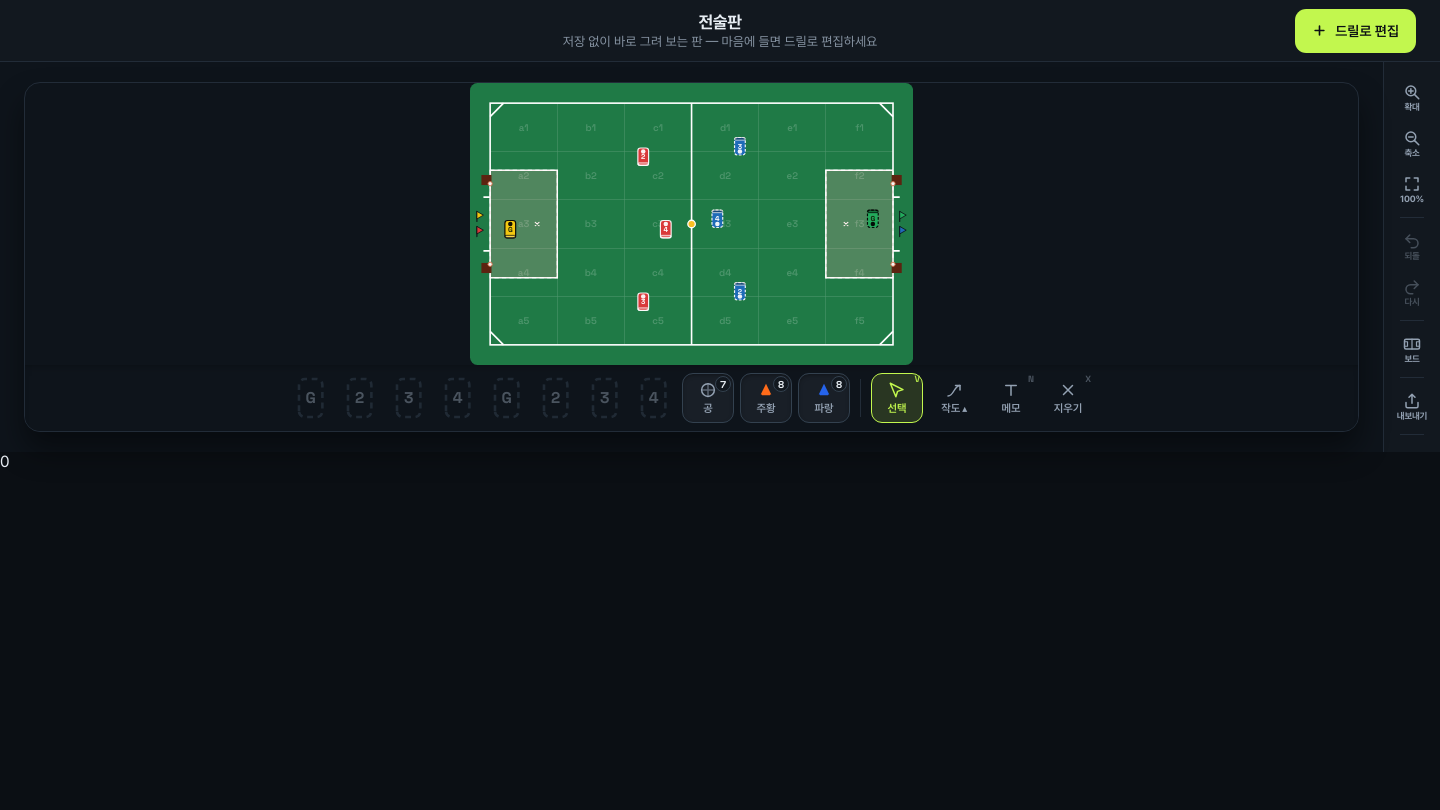
Test: 코트 비우기 — 덩어리가 크므로 확인을 받고, 되돌릴 수 있다 › 비우면 코트 전환 잠금이 풀린다
The width and height of the screenshot is (1440, 810).
Expected: the navigation bar named "도구" is shown, 25,365 -> 1358,431
What coordinates should you click on to do the following:
click the button with aria-label "보드 설정"
I would click on:
 (1412, 349)
Its box is 1390,327 -> 1434,371.
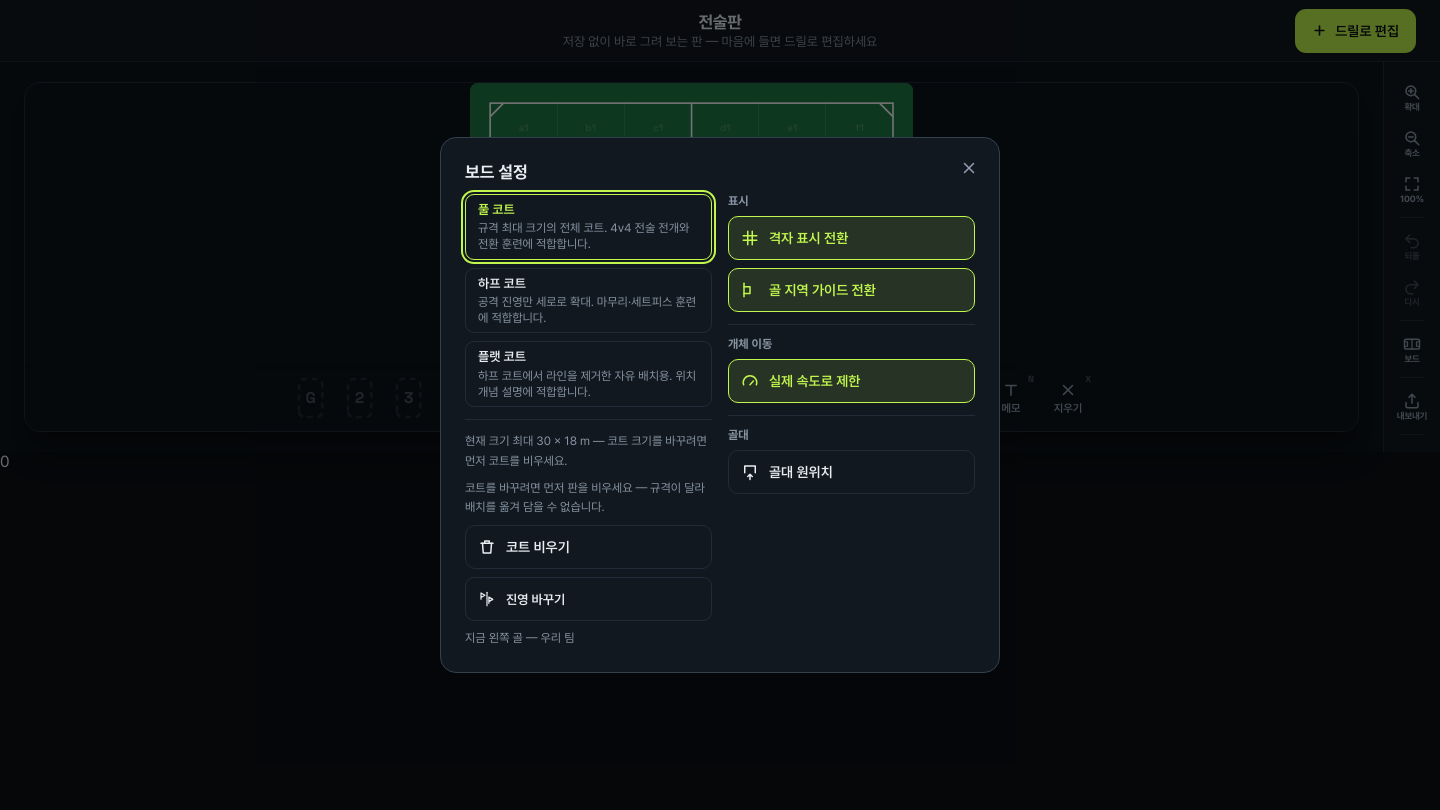
What coordinates should you click on to do the following:
click the button "코트 비우기"
I would click on:
 (588, 547)
Its box is 465,525 -> 712,569.
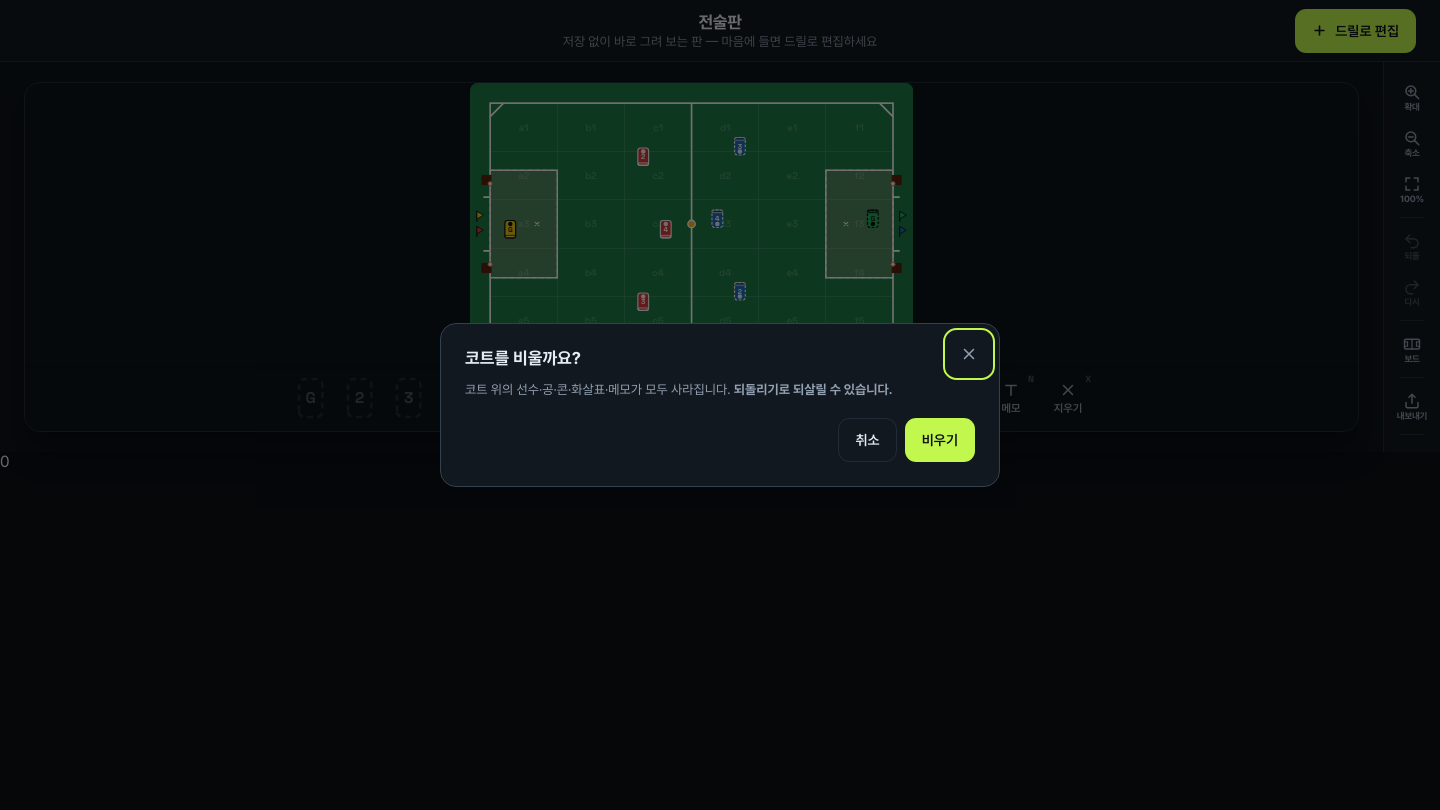
What coordinates should you click on to do the following:
click the button "비우기"
I would click on:
 (940, 440)
Its box is 905,418 -> 975,462.
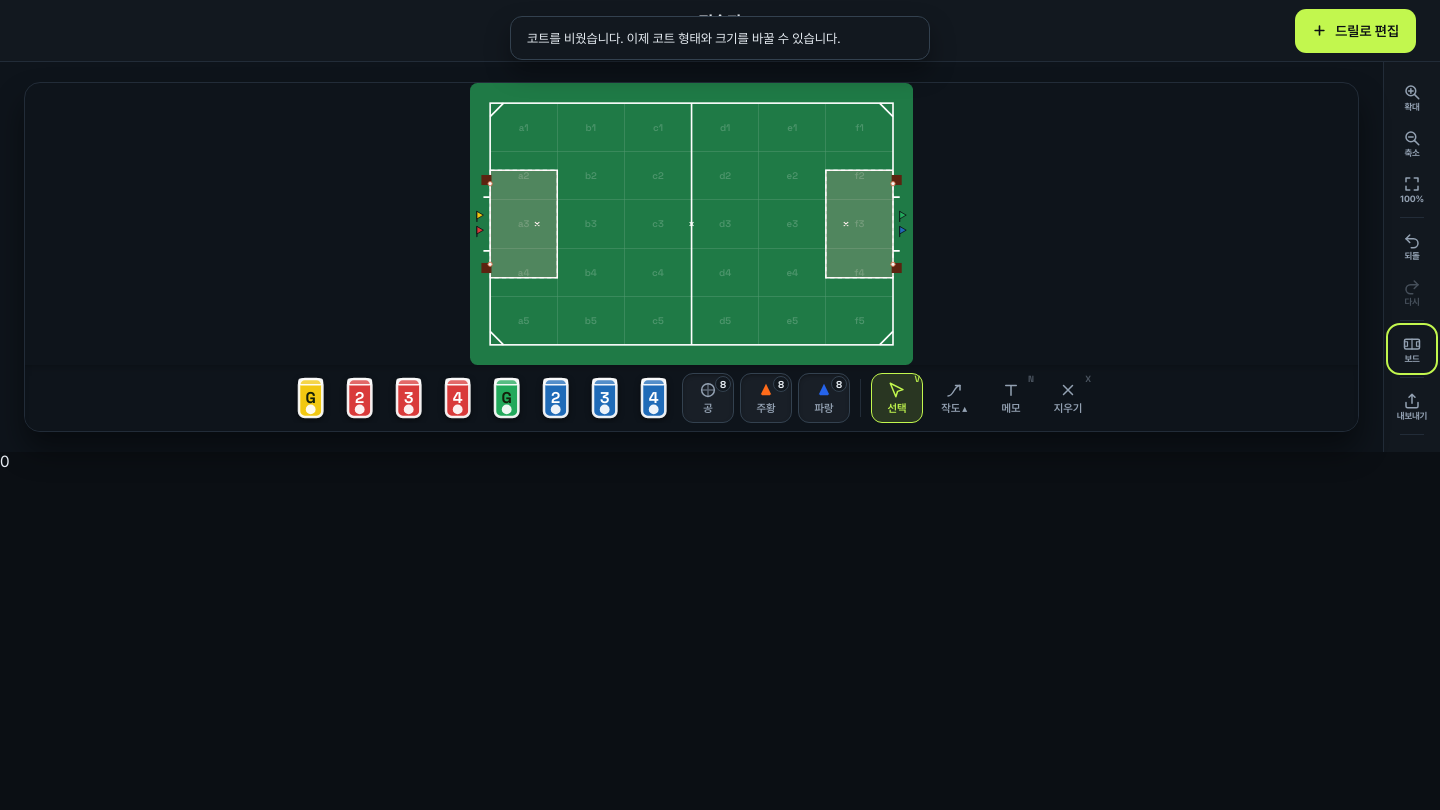
What coordinates should you click on to do the following:
click the button with aria-label "보드 설정"
I would click on:
 (1412, 349)
Its box is 1390,327 -> 1434,371.
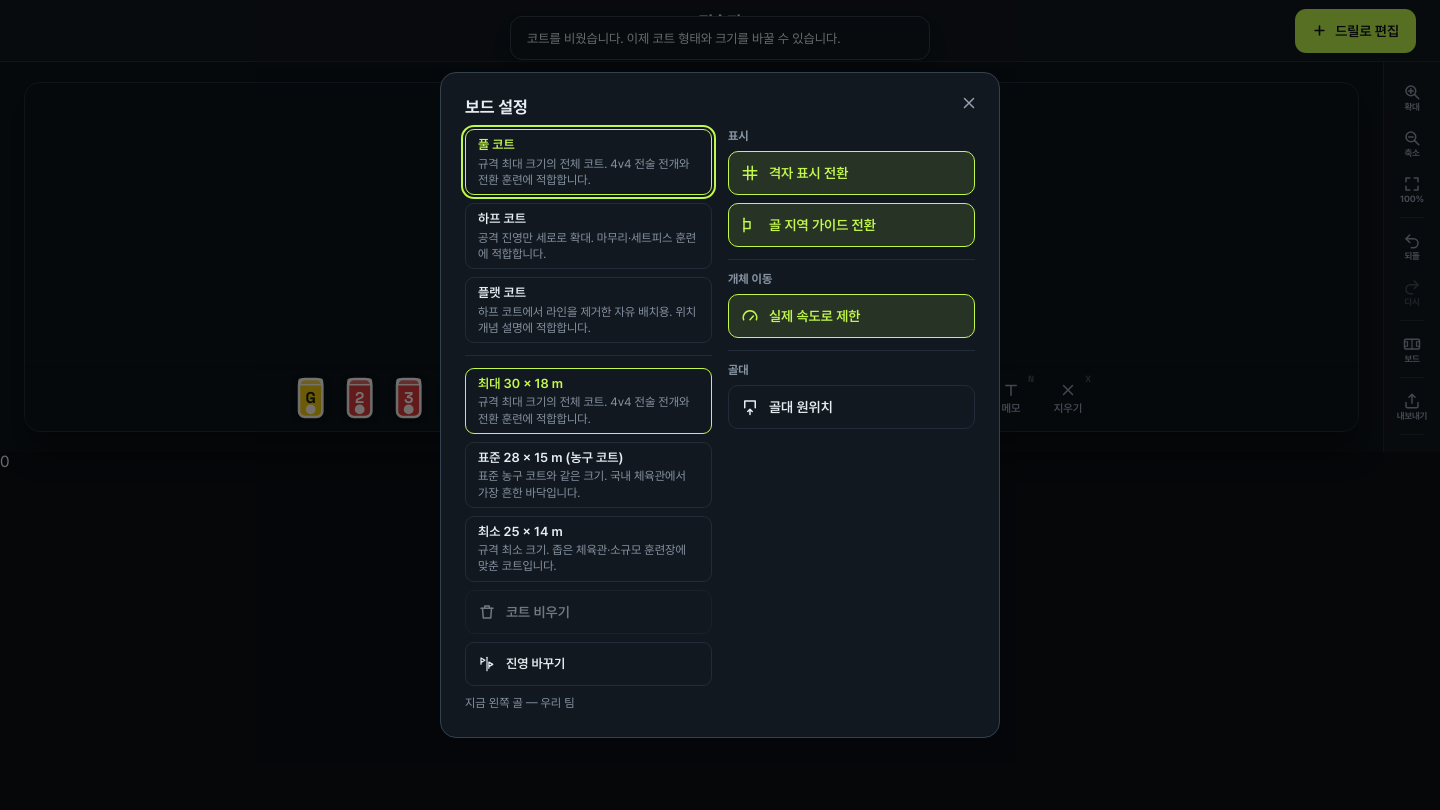
Expected: the element named "코트 형태" is shown, 465,129 -> 712,343
